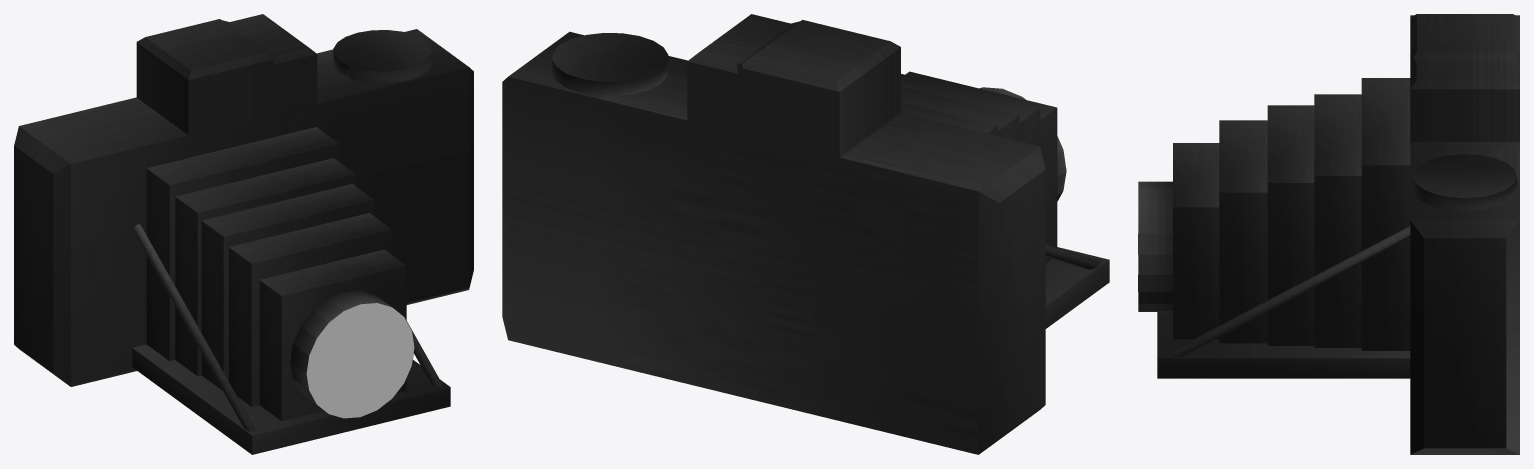
The model's file is Camera.fbx.
3 renders of one model, left to right at view 1: azimuth 30°, elevation 25°; view 2: azimuth 150°, elevation 25°; view 3: azimuth 270°, elevation 25°, orthographic. The views are drawn at different scales.
Parts seen in each view (by area): view 1: pCube1, pCylinder4, pCube2, pCube6, pCube5, pCube7, pCube4, pCube3, pCylinder1, pCylinder2, pCylinder3; view 2: pCube1, pCylinder1, pCube7, pCube6, pCube5, pCube4, pCube3, pCylinder2, pCylinder4; view 3: pCube1, pCube2, pCube3, pCube4, pCube5, pCube6, pCube7, pCylinder1, pCylinder4, pCylinder3.
Boxes of the visible parts, bbox=[...] form: pCube1: bbox=[14, 14, 473, 386]; pCylinder4: bbox=[290, 291, 414, 418]; pCube2: bbox=[146, 127, 339, 360]; pCube6: bbox=[259, 249, 406, 421]; pCube5: bbox=[229, 213, 392, 406]; pCube7: bbox=[132, 344, 450, 454]; pCube4: bbox=[201, 184, 374, 390]; pCube3: bbox=[175, 158, 356, 375]; pCylinder1: bbox=[333, 30, 431, 83]; pCylinder2: bbox=[133, 224, 255, 431]; pCylinder3: bbox=[407, 321, 442, 386]; pCube1: bbox=[502, 14, 1045, 454]; pCylinder1: bbox=[552, 33, 668, 96]; pCube7: bbox=[1045, 247, 1109, 328]; pCube6: bbox=[905, 71, 1057, 263]; pCube5: bbox=[901, 74, 1040, 146]; pCube4: bbox=[901, 86, 1019, 141]; pCube3: bbox=[901, 102, 997, 135]; pCylinder2: bbox=[1045, 244, 1100, 269]; pCylinder4: bbox=[979, 87, 1066, 201]; pCube1: bbox=[1410, 14, 1519, 454]; pCube2: bbox=[1361, 78, 1410, 350]; pCube3: bbox=[1314, 94, 1361, 347]; pCube4: bbox=[1267, 105, 1314, 345]; pCube5: bbox=[1219, 120, 1267, 343]; pCube6: bbox=[1173, 143, 1219, 339]; pCube7: bbox=[1157, 312, 1410, 378]; pCylinder1: bbox=[1413, 154, 1516, 210]; pCylinder4: bbox=[1138, 181, 1172, 311]; pCylinder3: bbox=[1164, 226, 1410, 356].
Bounding box in the file's own units: 169 × 109 × 126.
